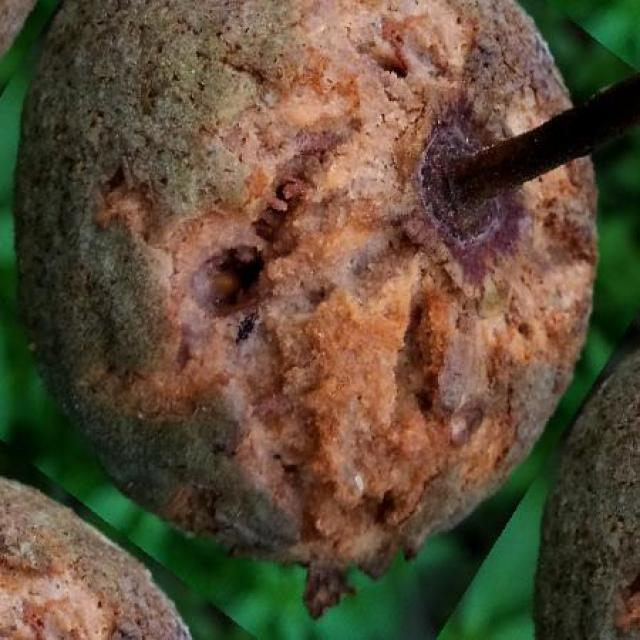Phytopthora: (16, 0, 596, 612)
